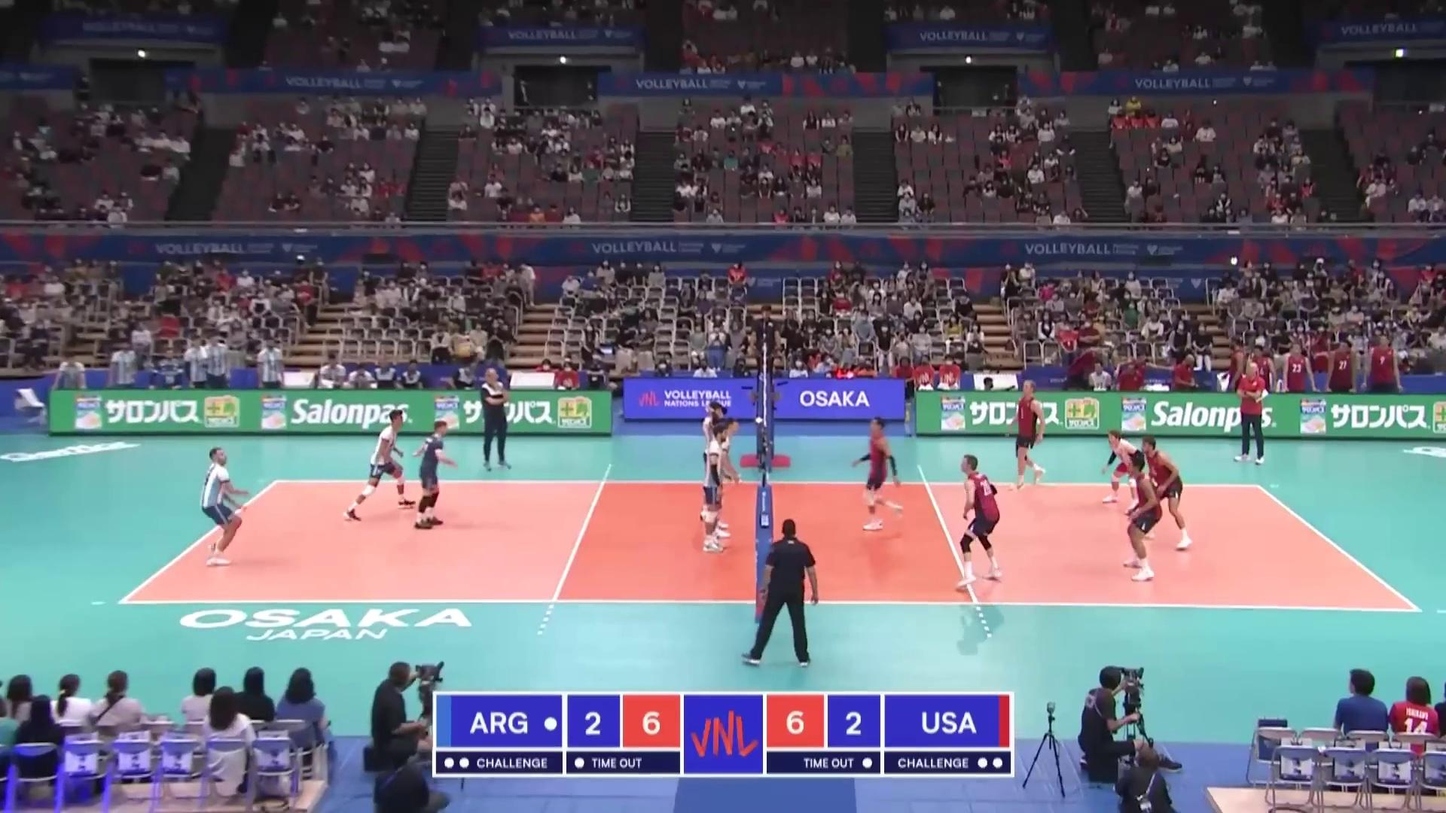player: (344, 409, 414, 522), (952, 455, 1007, 589), (849, 416, 907, 534), (1138, 436, 1195, 551), (200, 447, 248, 567), (1123, 456, 1163, 580), (411, 421, 456, 531), (1009, 380, 1047, 490), (707, 419, 740, 538), (701, 426, 730, 552), (1102, 428, 1147, 505), (701, 402, 731, 507)
refree: (747, 520, 821, 669), (750, 305, 782, 405)
